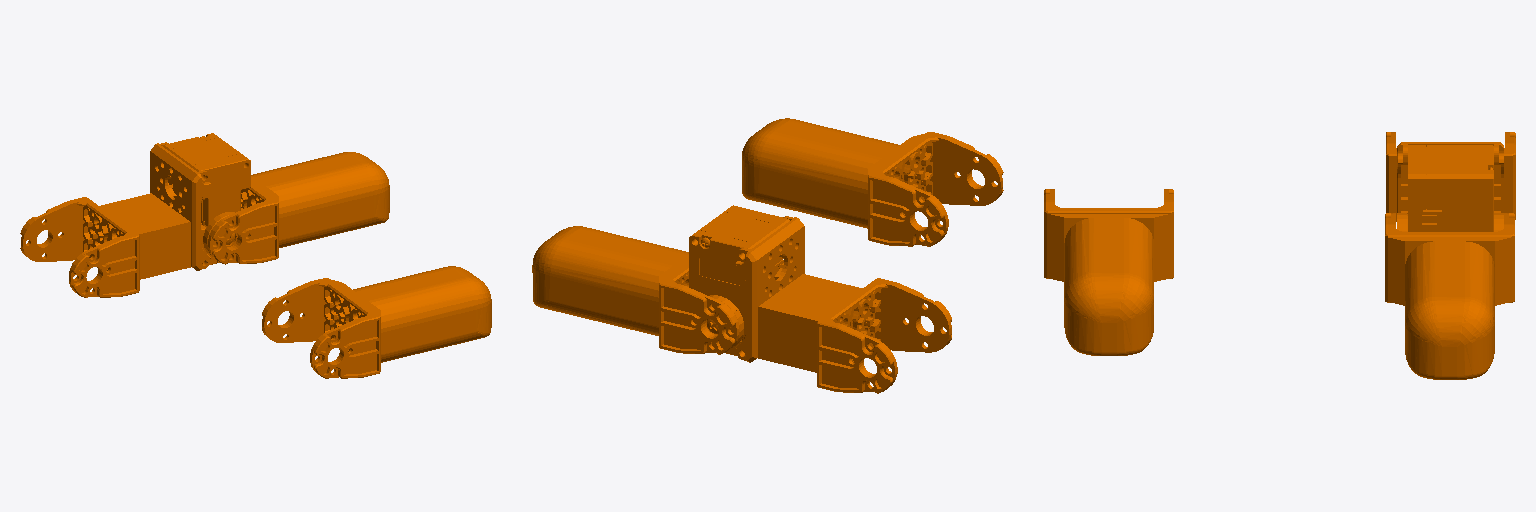
robot.urdf — onshape:
<robot name="onshape">
  <link name="palm_lower">
    <inertial>
      <origin xyz="0.0 0.0 0.0" rpy="0.0 -0.0 0.0"/>
      <mass value="0.237"/>
      <inertia ixx="0.000354094" ixy="-1.193e-06" ixz="-2.445e-06" iyy="0.000260915" iyz="-2.905e-06" izz="0.000529257"/>
    </inertial>
    <visual>
      <geometry>
        <mesh filename="../assets/leap/leap_hand/palm_lower.stl"/>
      </geometry>
      <origin xyz="-0.020095249652862544 0.025757756134899473 -0.034722403578460216" rpy="0.0 -0.0 0.0"/>
      <material name="palm_lower_material">
        <color rgba="0.6039215686274509 0.14901960784313725 0.14901960784313725 1.0"/>
      </material>
    </visual>
    <collision>
      <geometry>
        <mesh filename="../assets/leap/leap_hand/palm_lower.stl"/>
      </geometry>
      <origin xyz="-0.020095249652862544 0.025757756134899473 -0.034722403578460216" rpy="0.0 -0.0 0.0"/>
    </collision>
  </link>
  <link name="mcp_joint">
    <inertial>
      <origin xyz="0.0 0.0 0.0" rpy="0.0 -0.0 0.0"/>
      <mass value="0.044"/>
      <inertia ixx="1.1499e-05" ixy="3.049e-06" ixz="1.21e-07" iyy="7.796e-06" iyz="1.12e-07" izz="1.4759e-05"/>
    </inertial>
    <visual>
      <geometry>
        <mesh filename="../assets/leap/leap_hand/mcp_joint.stl"/>
      </geometry>
      <origin xyz="0.008406902261174496 0.0077662438597169954 0.014657354985032912" rpy="1.6375789613221e-15 -1.021047330249102e-30 1.7177968783327987e-31"/>
      <material name="mcp_joint_material">
        <color rgba="0.8666666666666667 0.8666666666666667 0.050980392156862744 1.0"/>
      </material>
    </visual>
    <collision>
      <geometry>
        <mesh filename="../assets/leap/leap_hand/mcp_joint.stl"/>
      </geometry>
      <origin xyz="0.008406902261174496 0.0077662438597169954 0.014657354985032912" rpy="1.6375789613221e-15 -1.021047330249102e-30 1.7177968783327987e-31"/>
    </collision>
  </link>
  <link name="pip">
    <inertial>
      <origin xyz="0.0 0.0 0.0" rpy="0.0 -0.0 0.0"/>
      <mass value="0.032"/>
      <inertia ixx="4.798e-06" ixy="1.2e-08" ixz="4e-09" iyy="2.862e-06" iyz="1.1e-08" izz="4.234e-06"/>
    </inertial>
    <visual>
      <geometry>
        <mesh filename="../assets/leap/leap_hand/pip.stl"/>
      </geometry>
      <origin xyz="0.009643363092271328 0.0002999999999999895 0.0007840340104173765" rpy="-1.5707963267948966 -1.5707963267948963 0.0"/>
      <material name="pip_material">
        <color rgba="0.7490196078431373 0.7490196078431373 0.7490196078431373 1.0"/>
      </material>
    </visual>
    <collision>
      <geometry>
        <mesh filename="../assets/leap/leap_hand/pip.stl"/>
      </geometry>
      <origin xyz="0.009643363092271328 0.0002999999999999895 0.0007840340104173765" rpy="-1.5707963267948966 -1.5707963267948963 0.0"/>
    </collision>
  </link>
  <link name="dip_long">
    <inertial>
      <origin xyz="0.0 0.0 0.0" rpy="0.0 -0.0 0.0"/>
      <mass value="0.037"/>
      <inertia ixx="5.542e-06" ixy="-6.07e-07" ixz="-1.7e-08" iyy="5.727e-06" iyz="-2.3e-08" izz="6.682e-06"/>
    </inertial>
    <visual>
      <geometry>
        <mesh filename="custom_models/dip_long.stl"/>
      </geometry>
      <origin xyz="0.021133352895225003 -0.00843211914670488 0.00978508816209524" rpy="-3.141592653589793 4.507511124216441e-32 4.439548105392361e-32"/>
      <material name="dip_material">
        <color rgba="0.878 0.467 0.0 1.0"/>
      </material>
    </visual>
    <collision>
      <geometry>
        <mesh filename="custom_models/dip_long.stl"/>
      </geometry>
      <origin xyz="0.021133352895225003 -0.00843211914670488 0.00978508816209524" rpy="-3.141592653589793 4.507511124216441e-32 4.439548105392361e-32"/>
    </collision>
  </link>
  <link name="fingertip_long">
    <inertial>
      <origin xyz="0.0 0.0 0.0" rpy="0.0 -0.0 0.0"/>
      <mass value="0.016"/>
      <inertia ixx="3.368e-06" ixy="1.15e-07" ixz="0.0" iyy="1.556e-06" iyz="0.0" izz="2.863e-06"/>
    </inertial>
    <visual>
      <geometry>
        <mesh filename="custom_models/fingertip_long.stl"/>
      </geometry>
      <origin xyz="0.013286424108533503 -0.006114238386541987 0.014499999999999498" rpy="3.141592653589793 1.1993117970061735e-33 4.439548105392361e-32"/>
      <material name="fingertip_material">
        <color rgba="0.878 0.467 0.0 1.0"/>
      </material>
    </visual>
    <collision>
      <geometry>
        <mesh filename="custom_models/fingertip_long.stl"/>
      </geometry>
      <origin xyz="0.013286424108533503 -0.006114238386541987 0.014499999999999498" rpy="3.141592653589793 1.1993117970061735e-33 4.439548105392361e-32"/>
    </collision>
  </link>
  <link name="pip_4">
    <inertial>
      <origin xyz="0.0 0.0 0.0" rpy="0.0 -0.0 0.0"/>
      <mass value="0.032"/>
      <inertia ixx="4.798e-06" ixy="1.2e-08" ixz="4e-09" iyy="2.862e-06" iyz="1.1e-08" izz="4.234e-06"/>
    </inertial>
    <visual>
      <geometry>
        <mesh filename="../assets/leap/leap_hand/pip.stl"/>
      </geometry>
      <origin xyz="-0.005356636907728671 0.0002999999999999999 0.0007840340104173782" rpy="-1.5707963267948966 -1.5707963267948963 0.0"/>
      <material name="pip_material">
        <color rgba="0.7490196078431373 0.7490196078431373 0.7490196078431373 1.0"/>
      </material>
    </visual>
    <collision>
      <geometry>
        <mesh filename="../assets/leap/leap_hand/pip.stl"/>
      </geometry>
      <origin xyz="-0.005356636907728671 0.0002999999999999999 0.0007840340104173782" rpy="-1.5707963267948966 -1.5707963267948963 0.0"/>
    </collision>
  </link>
  <link name="thumb_pip">
    <inertial>
      <origin xyz="0.0 0.0 0.0" rpy="0.0 -0.0 0.0"/>
      <mass value="0.003"/>
      <inertia ixx="5.93e-07" ixy="0.0" ixz="0.0" iyy="5.49e-07" iyz="0.0" izz="2.24e-07"/>
    </inertial>
    <visual>
      <geometry>
        <mesh filename="../assets/leap/leap_hand/thumb_pip.stl"/>
      </geometry>
      <origin xyz="0.011961920770611187 -5.30825383648903e-16 -0.0158526489566642" rpy="1.5707963267948966 1.6050198443300153e-46 -3.9204996250525193e-59"/>
      <material name="thumb_pip_material">
        <color rgba="0.8666666666666667 0.8666666666666667 0.050980392156862744 1.0"/>
      </material>
    </visual>
    <collision>
      <geometry>
        <mesh filename="../assets/leap/leap_hand/thumb_pip.stl"/>
      </geometry>
      <origin xyz="0.011961920770611187 -5.30825383648903e-16 -0.0158526489566642" rpy="1.5707963267948966 1.6050198443300153e-46 -3.9204996250525193e-59"/>
    </collision>
  </link>
  <link name="thumb_dip">
    <inertial>
      <origin xyz="0.0 0.0 0.0" rpy="0.0 -0.0 0.0"/>
      <mass value="0.038"/>
      <inertia ixx="8.474e-06" ixy="2.41e-07" ixz="2.6e-08" iyy="3.841e-06" iyz="2.5e-08" izz="7.679e-06"/>
    </inertial>
    <visual>
      <geometry>
        <mesh filename="../assets/leap/leap_hand/thumb_dip.stl"/>
      </geometry>
      <origin xyz="0.043968715707239175 0.0579529529737092 -0.008628676449369476" rpy="1.94289029309401e-16 3.27515792264422e-15 1.112375852965736e-46"/>
      <material name="thumb_dip_material">
        <color rgba="0.8666666666666667 0.8666666666666667 0.050980392156862744 1.0"/>
      </material>
    </visual>
    <collision>
      <geometry>
        <mesh filename="../assets/leap/leap_hand/thumb_dip.stl"/>
      </geometry>
      <origin xyz="0.043968715707239175 0.0579529529737092 -0.008628676449369476" rpy="1.94289029309401e-16 3.27515792264422e-15 1.112375852965736e-46"/>
    </collision>
  </link>
  <link name="thumb_fingertip">
    <inertial>
      <origin xyz="0.0 0.0 0.0" rpy="0.0 -0.0 0.0"/>
      <mass value="0.049"/>
      <inertia ixx="2.0372e-05" ixy="-4.89e-07" ixz="-3e-08" iyy="4.336e-06" iyz="-9.7e-08" izz="1.9845e-05"/>
    </inertial>
    <visual>
      <geometry>
        <mesh filename="../assets/leap/leap_hand/thumb_fingertip.stl"/>
      </geometry>
      <origin xyz="0.06255953846266739 0.07845968291139699 0.048992911807332215" rpy="4.379057701015637e-47 -3.33066907387547e-16 1.2042408677791935e-46"/>
      <material name="thumb_fingertip_material">
        <color rgba="0.6039215686274509 0.14901960784313725 0.14901960784313725 1.0"/>
      </material>
    </visual>
    <collision>
      <geometry>
        <mesh filename="../assets/leap/leap_hand/thumb_fingertip.stl"/>
      </geometry>
      <origin xyz="0.06255953846266739 0.07845968291139699 0.048992911807332215" rpy="4.379057701015637e-47 -3.33066907387547e-16 1.2042408677791935e-46"/>
    </collision>
  </link>
  <link name="mcp_joint_2">
    <inertial>
      <origin xyz="0.0 0.0 0.0" rpy="0.0 -0.0 0.0"/>
      <mass value="0.044"/>
      <inertia ixx="1.1499e-05" ixy="3.049e-06" ixz="1.21e-07" iyy="7.796e-06" iyz="1.12e-07" izz="1.4759e-05"/>
    </inertial>
    <visual>
      <geometry>
        <mesh filename="../assets/leap/leap_hand/mcp_joint.stl"/>
      </geometry>
      <origin xyz="0.008406902261174496 0.0077662438597169954 0.014657354985032914" rpy="1.6375789613221e-15 -1.0076465469034e-30 2.1209300131419907e-61"/>
      <material name="mcp_joint_material">
        <color rgba="0.8666666666666667 0.8666666666666667 0.050980392156862744 1.0"/>
      </material>
    </visual>
    <collision>
      <geometry>
        <mesh filename="../assets/leap/leap_hand/mcp_joint.stl"/>
      </geometry>
      <origin xyz="0.008406902261174496 0.0077662438597169954 0.014657354985032914" rpy="1.6375789613221e-15 -1.0076465469034e-30 2.1209300131419907e-61"/>
    </collision>
  </link>
  <link name="pip_2">
    <inertial>
      <origin xyz="0.0 0.0 0.0" rpy="0.0 -0.0 0.0"/>
      <mass value="0.032"/>
      <inertia ixx="4.798e-06" ixy="1.2e-08" ixz="4e-09" iyy="2.862e-06" iyz="1.1e-08" izz="4.234e-06"/>
    </inertial>
    <visual>
      <geometry>
        <mesh filename="../assets/leap/leap_hand/pip.stl"/>
      </geometry>
      <origin xyz="0.009643363092271328 0.0002999999999999947 0.0007840340104173765" rpy="-1.5707963267948966 -1.5707963267948963 0.0"/>
      <material name="pip_material">
        <color rgba="0.7490196078431373 0.7490196078431373 0.7490196078431373 1.0"/>
      </material>
    </visual>
    <collision>
      <geometry>
        <mesh filename="../assets/leap/leap_hand/pip.stl"/>
      </geometry>
      <origin xyz="0.009643363092271328 0.0002999999999999947 0.0007840340104173765" rpy="-1.5707963267948966 -1.5707963267948963 0.0"/>
    </collision>
  </link>
  <link name="dip_2">
    <inertial>
      <origin xyz="0.0 0.0 0.0" rpy="0.0 -0.0 0.0"/>
      <mass value="0.037"/>
      <inertia ixx="5.542e-06" ixy="-6.07e-07" ixz="-1.7e-08" iyy="5.727e-06" iyz="-2.3e-08" izz="6.682e-06"/>
    </inertial>
    <visual>
      <geometry>
        <mesh filename="../assets/leap/leap_hand/dip.stl"/>
      </geometry>
      <origin xyz="0.021133352895225003 -0.008432119146704865 0.009785088162095237" rpy="-3.141592653589793 2.1146933785271956e-32 1.4408183216511869e-31"/>
      <material name="dip_material">
        <color rgba="0.8666666666666667 0.8666666666666667 0.050980392156862744 1.0"/>
      </material>
    </visual>
    <collision>
      <geometry>
        <mesh filename="../assets/leap/leap_hand/dip.stl"/>
      </geometry>
      <origin xyz="0.021133352895225003 -0.008432119146704865 0.009785088162095237" rpy="-3.141592653589793 2.1146933785271956e-32 1.4408183216511869e-31"/>
    </collision>
  </link>
  <link name="fingertip_2">
    <inertial>
      <origin xyz="0.0 0.0 0.0" rpy="0.0 -0.0 0.0"/>
      <mass value="0.016"/>
      <inertia ixx="3.368e-06" ixy="1.15e-07" ixz="0.0" iyy="1.556e-06" iyz="0.0" izz="2.863e-06"/>
    </inertial>
    <visual>
      <geometry>
        <mesh filename="../assets/leap/leap_hand/fingertip.stl"/>
      </geometry>
      <origin xyz="0.013286424108533496 -0.006114238386542001 0.014499999999999496" rpy="3.141592653589793 -4.317959788283594e-33 1.4408183216511869e-31"/>
      <material name="fingertip_material">
        <color rgba="0.8666666666666667 0.8666666666666667 0.050980392156862744 1.0"/>
      </material>
    </visual>
    <collision>
      <geometry>
        <mesh filename="../assets/leap/leap_hand/fingertip.stl"/>
      </geometry>
      <origin xyz="0.013286424108533496 -0.006114238386542001 0.014499999999999496" rpy="3.141592653589793 -4.317959788283594e-33 1.4408183216511869e-31"/>
    </collision>
  </link>
  <link name="mcp_joint_3">
    <inertial>
      <origin xyz="0.0 0.0 0.0" rpy="0.0 -0.0 0.0"/>
      <mass value="0.044"/>
      <inertia ixx="1.1499e-05" ixy="3.049e-06" ixz="1.21e-07" iyy="7.796e-06" iyz="1.12e-07" izz="1.4759e-05"/>
    </inertial>
    <visual>
      <geometry>
        <mesh filename="../assets/leap/leap_hand/mcp_joint.stl"/>
      </geometry>
      <origin xyz="0.0084069022611745 0.007766243859716996 0.014657354985032914" rpy="1.6375789613221e-15 -1.0059504988632627e-30 5.729641584552035e-32"/>
      <material name="mcp_joint_material">
        <color rgba="0.8666666666666667 0.8666666666666667 0.050980392156862744 1.0"/>
      </material>
    </visual>
    <collision>
      <geometry>
        <mesh filename="../assets/leap/leap_hand/mcp_joint.stl"/>
      </geometry>
      <origin xyz="0.0084069022611745 0.007766243859716996 0.014657354985032914" rpy="1.6375789613221e-15 -1.0059504988632627e-30 5.729641584552035e-32"/>
    </collision>
  </link>
  <link name="pip_3">
    <inertial>
      <origin xyz="0.0 0.0 0.0" rpy="0.0 -0.0 0.0"/>
      <mass value="0.032"/>
      <inertia ixx="4.798e-06" ixy="1.2e-08" ixz="4e-09" iyy="2.862e-06" iyz="1.1e-08" izz="4.234e-06"/>
    </inertial>
    <visual>
      <geometry>
        <mesh filename="../assets/leap/leap_hand/pip.stl"/>
      </geometry>
      <origin xyz="0.009643363092271331 0.00029999999999998084 0.0007840340104173765" rpy="-1.5707963267948966 -1.5707963267948963 0.0"/>
      <material name="pip_material">
        <color rgba="0.7490196078431373 0.7490196078431373 0.7490196078431373 1.0"/>
      </material>
    </visual>
    <collision>
      <geometry>
        <mesh filename="../assets/leap/leap_hand/pip.stl"/>
      </geometry>
      <origin xyz="0.009643363092271331 0.00029999999999998084 0.0007840340104173765" rpy="-1.5707963267948966 -1.5707963267948963 0.0"/>
    </collision>
  </link>
  <link name="dip_3">
    <inertial>
      <origin xyz="0.0 0.0 0.0" rpy="0.0 -0.0 0.0"/>
      <mass value="0.037"/>
      <inertia ixx="5.542e-06" ixy="-6.07e-07" ixz="-1.7e-08" iyy="5.727e-06" iyz="-2.3e-08" izz="6.682e-06"/>
    </inertial>
    <visual>
      <geometry>
        <mesh filename="../assets/leap/leap_hand/dip.stl"/>
      </geometry>
      <origin xyz="0.021133352895225006 -0.008432119146704865 0.009785088162095237" rpy="-3.141592653589793 -1.4095651113919093e-33 1.5565411607615035e-32"/>
      <material name="dip_material">
        <color rgba="0.8666666666666667 0.8666666666666667 0.050980392156862744 1.0"/>
      </material>
    </visual>
    <collision>
      <geometry>
        <mesh filename="../assets/leap/leap_hand/dip.stl"/>
      </geometry>
      <origin xyz="0.021133352895225006 -0.008432119146704865 0.009785088162095237" rpy="-3.141592653589793 -1.4095651113919093e-33 1.5565411607615035e-32"/>
    </collision>
  </link>
  <link name="fingertip_3_long">
    <inertial>
      <origin xyz="0.0 0.0 0.0" rpy="0.0 -0.0 0.0"/>
      <mass value="0.016"/>
      <inertia ixx="3.368e-06" ixy="1.15e-07" ixz="0.0" iyy="1.556e-06" iyz="0.0" izz="2.863e-06"/>
    </inertial>
    <visual>
      <geometry>
        <mesh filename="custom_models/fingertip_long.stl"/>
      </geometry>
      <origin xyz="0.013286424108533501 -0.006114238386541987 0.0144999999999995" rpy="3.141592653589793 8.61707169505754e-33 1.5565411607615035e-32"/>
      <material name="fingertip_material">
        <color rgba="0.878 0.467 0.0 1.0"/>
      </material>
    </visual>
    <collision>
      <geometry>
        <mesh filename="custom_models/fingertip_long.stl"/>
      </geometry>
      <origin xyz="0.013286424108533501 -0.006114238386541987 0.0144999999999995" rpy="3.141592653589793 8.61707169505754e-33 1.5565411607615035e-32"/>
    </collision>
  </link>
  <joint name="1" type="revolute">
    <parent link="palm_lower"/>
    <child link="mcp_joint"/>
    <origin xyz="-0.007095249652862546 0.023057756134899472 -0.01872240357846022" rpy="1.570796326794895 1.5707963267948946 0.0"/>
    <axis xyz="0.0 0.0 -1.0"/>
    <limit effort="0.95" velocity="8.48" lower="-0.314" upper="2.23"/>
  </joint>
  <joint name="0" type="revolute">
    <parent link="mcp_joint"/>
    <child link="pip"/>
    <origin xyz="-0.012200000000000008 0.038099999999999995 0.0145" rpy="-1.5707963267948966 -1.0065212660796337e-15 1.5707963267948943"/>
    <axis xyz="0.0 0.0 -1.0"/>
    <limit effort="0.95" velocity="8.48" lower="-1.047" upper="1.047"/>
  </joint>
  <joint name="2" type="revolute">
    <parent link="pip"/>
    <child link="dip_long"/>
    <origin xyz="0.014999999999999968 0.014299999999999905 -0.012999999999999824" rpy="1.570796326794896 -1.5707963267948963 0.0"/>
    <axis xyz="0.0 0.0 -1.0"/>
    <limit effort="0.95" velocity="8.48" lower="-0.506" upper="1.885"/>
  </joint>
  <joint name="3" type="revolute">
    <parent link="dip_long"/>
    <child link="fingertip_long"/>
    <origin xyz="-4.0880582495572692636e-09 -0.051100004210367367397 0.00020000000000007858714" rpy="4.5935029425113685e-17 -2.8730071914463795e-16 4.439548105392361e-32"/>
    <axis xyz="0.0 0.0 -1.0"/>
    <limit effort="0.95" velocity="8.48" lower="-0.366" upper="2.042"/>
  </joint>
  <joint name="12" type="revolute">
    <parent link="palm_lower"/>
    <child link="pip_4"/>
    <origin xyz="-0.06939524965286253 -0.0012422438651005258 -0.021622403578460216" rpy="-8.238176646493942e-17 1.5707963267948957 0.0"/>
    <axis xyz="0.0 0.0 -1.0"/>
    <limit effort="0.95" velocity="8.48" lower="-0.349" upper="2.094"/>
  </joint>
  <joint name="13" type="revolute">
    <parent link="pip_4"/>
    <child link="thumb_pip"/>
    <origin xyz="-2.7755575615628914e-17 0.014300000000000005 -0.013000000000000012" rpy="1.570796326794896 -1.5707963267948963 0.0"/>
    <axis xyz="0.0 0.0 -1.0"/>
    <limit effort="0.95" velocity="8.48" lower="-0.47" upper="2.443"/>
  </joint>
  <joint name="14" type="revolute">
    <parent link="thumb_pip"/>
    <child link="thumb_dip"/>
    <origin xyz="0.0 0.014499999999999966 -0.017000000000000053" rpy="-1.5707963267948966 1.6050198443300131e-46 -1.9721522630516625e-31"/>
    <axis xyz="0.0 0.0 -1.0"/>
    <limit effort="0.95" velocity="8.48" lower="-1.2" upper="1.9"/>
  </joint>
  <joint name="15" type="revolute">
    <parent link="thumb_dip"/>
    <child link="thumb_fingertip"/>
    <origin xyz="-1.249000902703301e-16 0.046599999999999864 0.0001999999999999771" rpy="1.506395849149178e-44 5.423418723393526e-31 3.141592653589793"/>
    <axis xyz="0.0 0.0 -1.0"/>
    <limit effort="0.95" velocity="8.48" lower="-1.34" upper="1.88"/>
  </joint>
  <joint name="5" type="revolute">
    <parent link="palm_lower"/>
    <child link="mcp_joint_2"/>
    <origin xyz="-0.007095249652862546 -0.022392243865100525 -0.01872240357846022" rpy="1.570796326794895 1.5707963267948946 0.0"/>
    <axis xyz="0.0 0.0 -1.0"/>
    <limit effort="0.95" velocity="8.48" lower="-0.314" upper="2.23"/>
  </joint>
  <joint name="4" type="revolute">
    <parent link="mcp_joint_2"/>
    <child link="pip_2"/>
    <origin xyz="-0.012200000000000008 0.038099999999999995 0.0145" rpy="-1.5707963267948966 -1.0065212660796337e-15 1.5707963267948943"/>
    <axis xyz="0.0 0.0 -1.0"/>
    <limit effort="0.95" velocity="8.48" lower="-1.047" upper="1.047"/>
  </joint>
  <joint name="6" type="revolute">
    <parent link="pip_2"/>
    <child link="dip_2"/>
    <origin xyz="0.014999999999999968 0.014299999999999905 -0.012999999999999824" rpy="1.570796326794896 -1.5707963267948963 0.0"/>
    <axis xyz="0.0 0.0 -1.0"/>
    <limit effort="0.95" velocity="8.48" lower="-0.506" upper="1.885"/>
  </joint>
  <joint name="7" type="revolute">
    <parent link="dip_2"/>
    <child link="fingertip_2"/>
    <origin xyz="-4.088058249557269e-09 -0.03610000421036737 0.0002000000000000786" rpy="4.5935029425113685e-17 -2.8730071914463795e-16 4.439548105392361e-32"/>
    <axis xyz="0.0 0.0 -1.0"/>
    <limit effort="0.95" velocity="8.48" lower="-0.366" upper="2.042"/>
  </joint>
  <joint name="9" type="revolute">
    <parent link="palm_lower"/>
    <child link="mcp_joint_3"/>
    <origin xyz="-0.007095249652862546 -0.06784224386510052 -0.01872240357846022" rpy="1.570796326794895 1.5707963267948946 0.0"/>
    <axis xyz="0.0 0.0 -1.0"/>
    <limit effort="0.95" velocity="8.48" lower="-0.314" upper="2.23"/>
  </joint>
  <joint name="8" type="revolute">
    <parent link="mcp_joint_3"/>
    <child link="pip_3"/>
    <origin xyz="-0.012200000000000008 0.038099999999999995 0.0145" rpy="-1.5707963267948966 -1.0065212660796337e-15 1.5707963267948943"/>
    <axis xyz="0.0 0.0 -1.0"/>
    <limit effort="0.95" velocity="8.48" lower="-1.047" upper="1.047"/>
  </joint>
  <joint name="10" type="revolute">
    <parent link="pip_3"/>
    <child link="dip_3"/>
    <origin xyz="0.014999999999999968 0.014299999999999905 -0.012999999999999824" rpy="1.570796326794896 -1.5707963267948963 0.0"/>
    <axis xyz="0.0 0.0 -1.0"/>
    <limit effort="0.95" velocity="8.48" lower="-0.506" upper="1.885"/>
  </joint>
  <joint name="11" type="revolute">
    <parent link="dip_3"/>
    <child link="fingertip_3_long"/>
    <origin xyz="-4.088058249557269e-09 -0.03610000421036737 0.0002000000000000786" rpy="4.5935029425113685e-17 -2.8730071914463795e-16 4.439548105392361e-32"/>
    <axis xyz="0.0 0.0 -1.0"/>
    <limit effort="0.95" velocity="8.48" lower="-0.366" upper="2.042"/>
  </joint>
</robot>

--- Render facts (derived) ---
Views: 3 orthographic renders of the robot side by side, from view 1: azimuth 30°, elevation 25°; view 2: azimuth 150°, elevation 25°; view 3: azimuth 270°, elevation 25°.
Model onshape with 17 links and 16 joints (16 revolute), rooted at palm_lower, posed every joint at zero.
Links seen in each view (by area): view 1: dip_long, fingertip_3_long, fingertip_long; view 2: dip_long, fingertip_3_long, fingertip_long; view 3: fingertip_long, fingertip_3_long, dip_long.
Boxes of the visible links, <box> form: dip_long: <box>20,133,250,297</box>; fingertip_3_long: <box>262,266,491,378</box>; fingertip_long: <box>208,152,389,264</box>; dip_long: <box>689,205,951,393</box>; fingertip_3_long: <box>742,118,1003,246</box>; fingertip_long: <box>532,226,779,354</box>; fingertip_long: <box>1385,213,1514,379</box>; fingertip_3_long: <box>1044,189,1173,355</box>; dip_long: <box>1386,132,1515,231</box>.
Size in the robot's own frame: 0.1235 by 0.1257 by 0.0356 metres.
Meshes: 10 distinct files referenced, 3 mesh visuals loaded (2 binary STL); not drawn: 14 (reference not matched to a file when rendering).